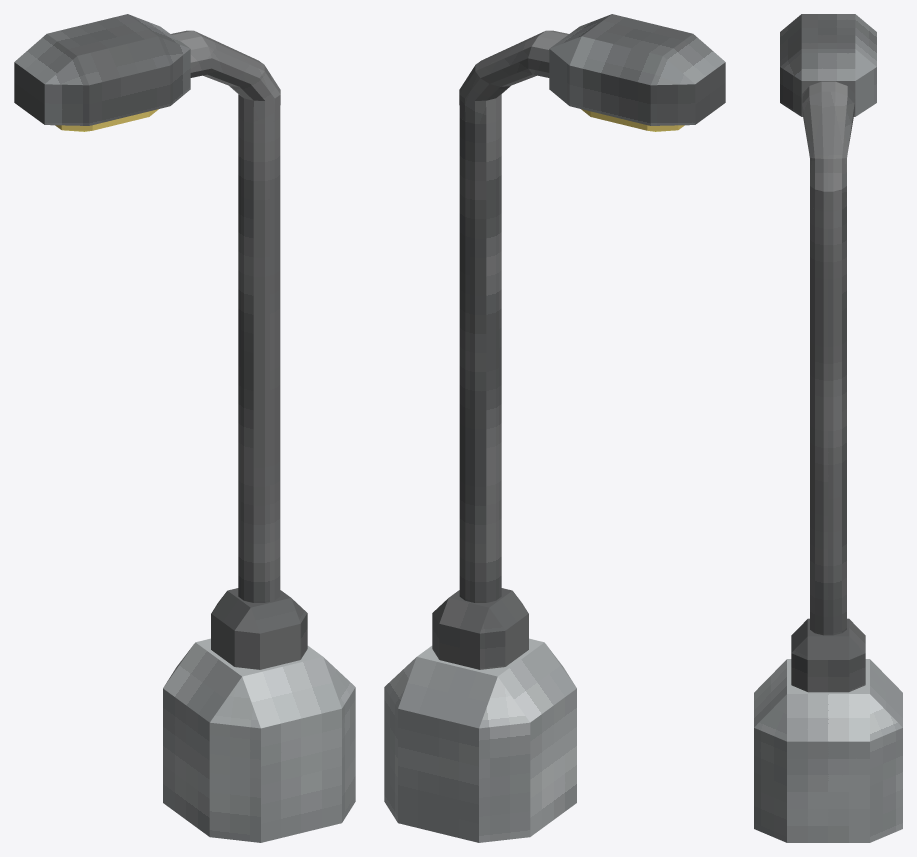
File: spotlight.fbx
The picture shows the model from 3 angles, left to right: view 1: azimuth 30°, elevation 25°; view 2: azimuth 150°, elevation 25°; view 3: azimuth 270°, elevation 25°; orthographic projection. The views are drawn at different scales.
Parts seen in each view (by area): view 1: beveled_cuboid; view 2: beveled_cuboid; view 3: beveled_cuboid.
Part boxes in pixels (x1=…): beveled_cuboid: x1=14, y1=14, x2=355, y2=842; beveled_cuboid: x1=384, y1=14, x2=725, y2=842; beveled_cuboid: x1=754, y1=14, x2=902, y2=842.
Bounding box in the file's own units: 51.88 × 132 × 25.
Materials: 2 (2 with a texture image).
